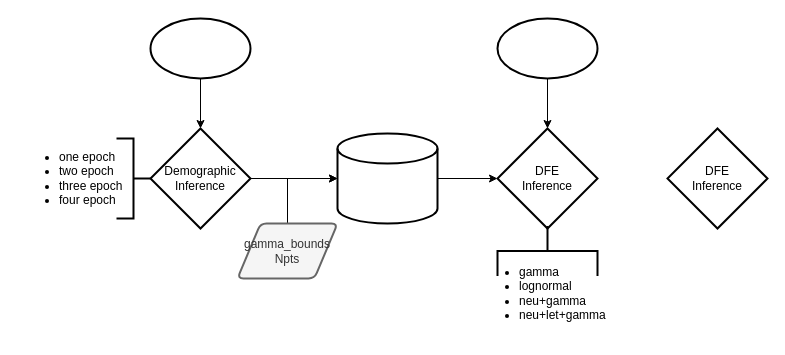
This 785x355 diagram has some shape labels left out. The centre of each missing label's shape, as x and y in pixels:
MIS-SFS: [547,48]
Precomputed Reference Spectra: [387,178]
SYN-SFS: [200,48]
